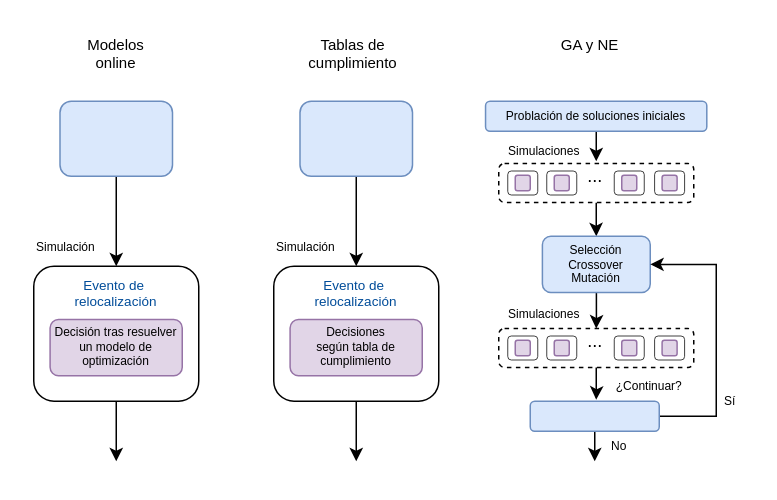
This 777x500 diagram has some shape labels left out. Each missing label, with the centre of its shape:
"Criterio de parada" goes at [594,415].
"Pre-cálculo de tablas de cumplimiento" goes at [355,138].
"Pre-cálculo de variables auxiliares" goes at [115,138].
